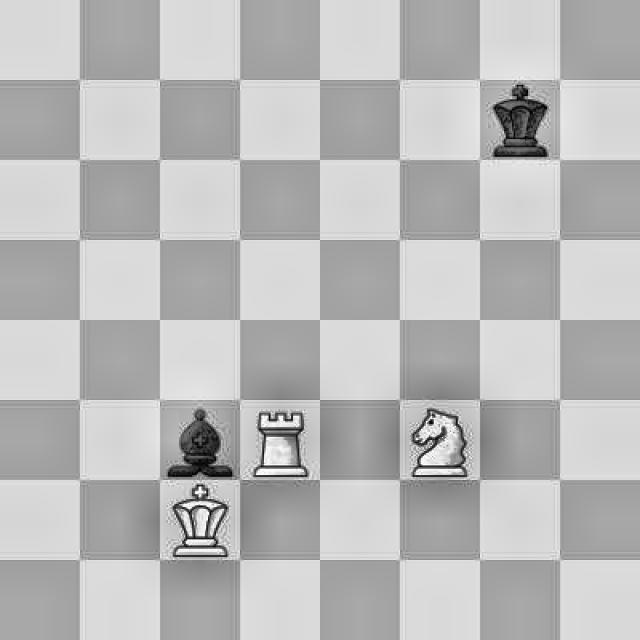black bishop: (163, 404, 236, 479)
black king: (480, 77, 558, 159)
white king: (163, 484, 234, 554)
white rook: (240, 400, 317, 477)
whiteknight: (402, 400, 477, 480)
